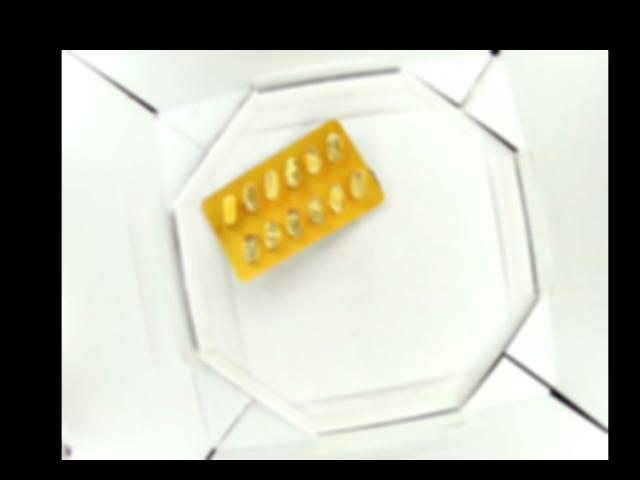Medicine: (201, 116, 386, 280)
